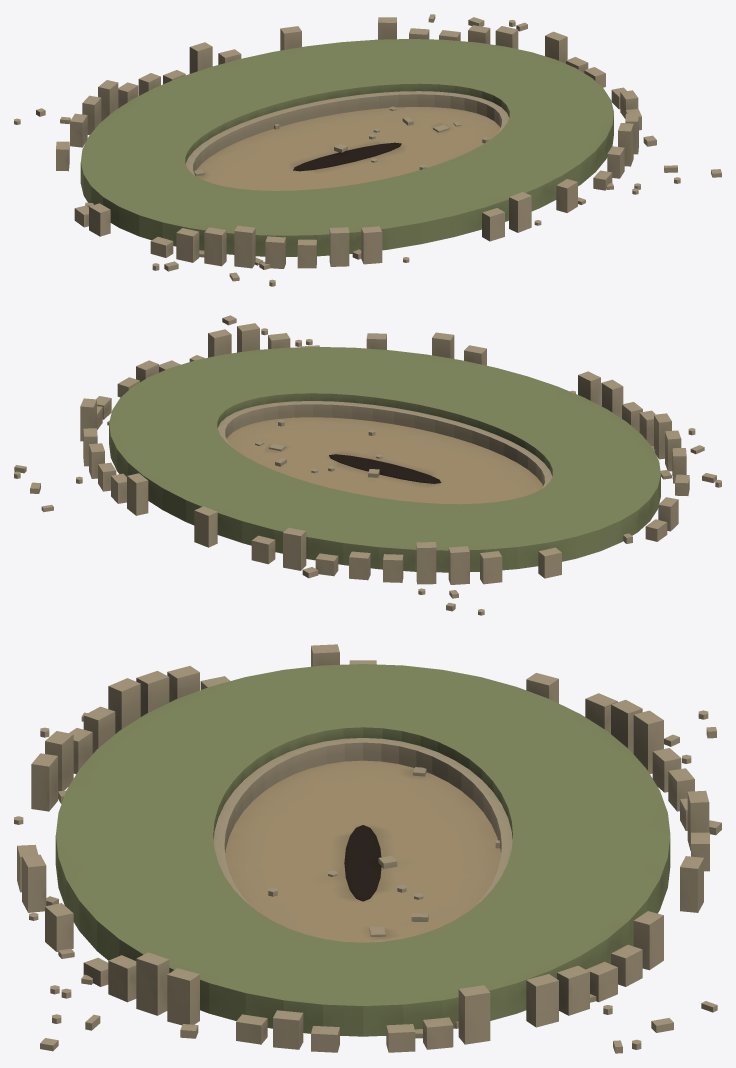
File: amphitheatre-ruin.glb
The picture shows the model from 3 angles, top to bottom: view 1: azimuth 30°, elevation 25°; view 2: azimuth 150°, elevation 25°; view 3: azimuth 270°, elevation 25°; orthographic projection. The views are drawn at different scales.
Parts seen in each view (by area): view 1: p1_mound, p0_arena, p2_ruins; view 2: p1_mound, p0_arena, p2_ruins; view 3: p1_mound, p0_arena, p2_ruins.
Part boxes in pixels (bbox=[...]): p1_mound: bbox=[56, 17, 641, 268]; p0_arena: bbox=[185, 91, 508, 190]; p2_ruins: bbox=[14, 14, 721, 286]; p1_mound: bbox=[80, 323, 689, 584]; p0_arena: bbox=[217, 401, 552, 504]; p2_ruins: bbox=[14, 315, 721, 615]; p1_mound: bbox=[17, 644, 709, 1052]; p0_arena: bbox=[213, 738, 512, 942]; p2_ruins: bbox=[14, 710, 721, 1053].
Size of the model in its own units: 119 by 7.53 by 94.45.
